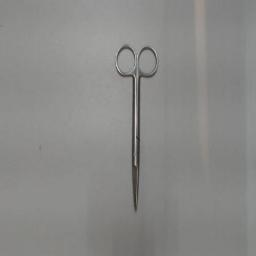Curved Mayo Scissors: (112, 40, 162, 214)
